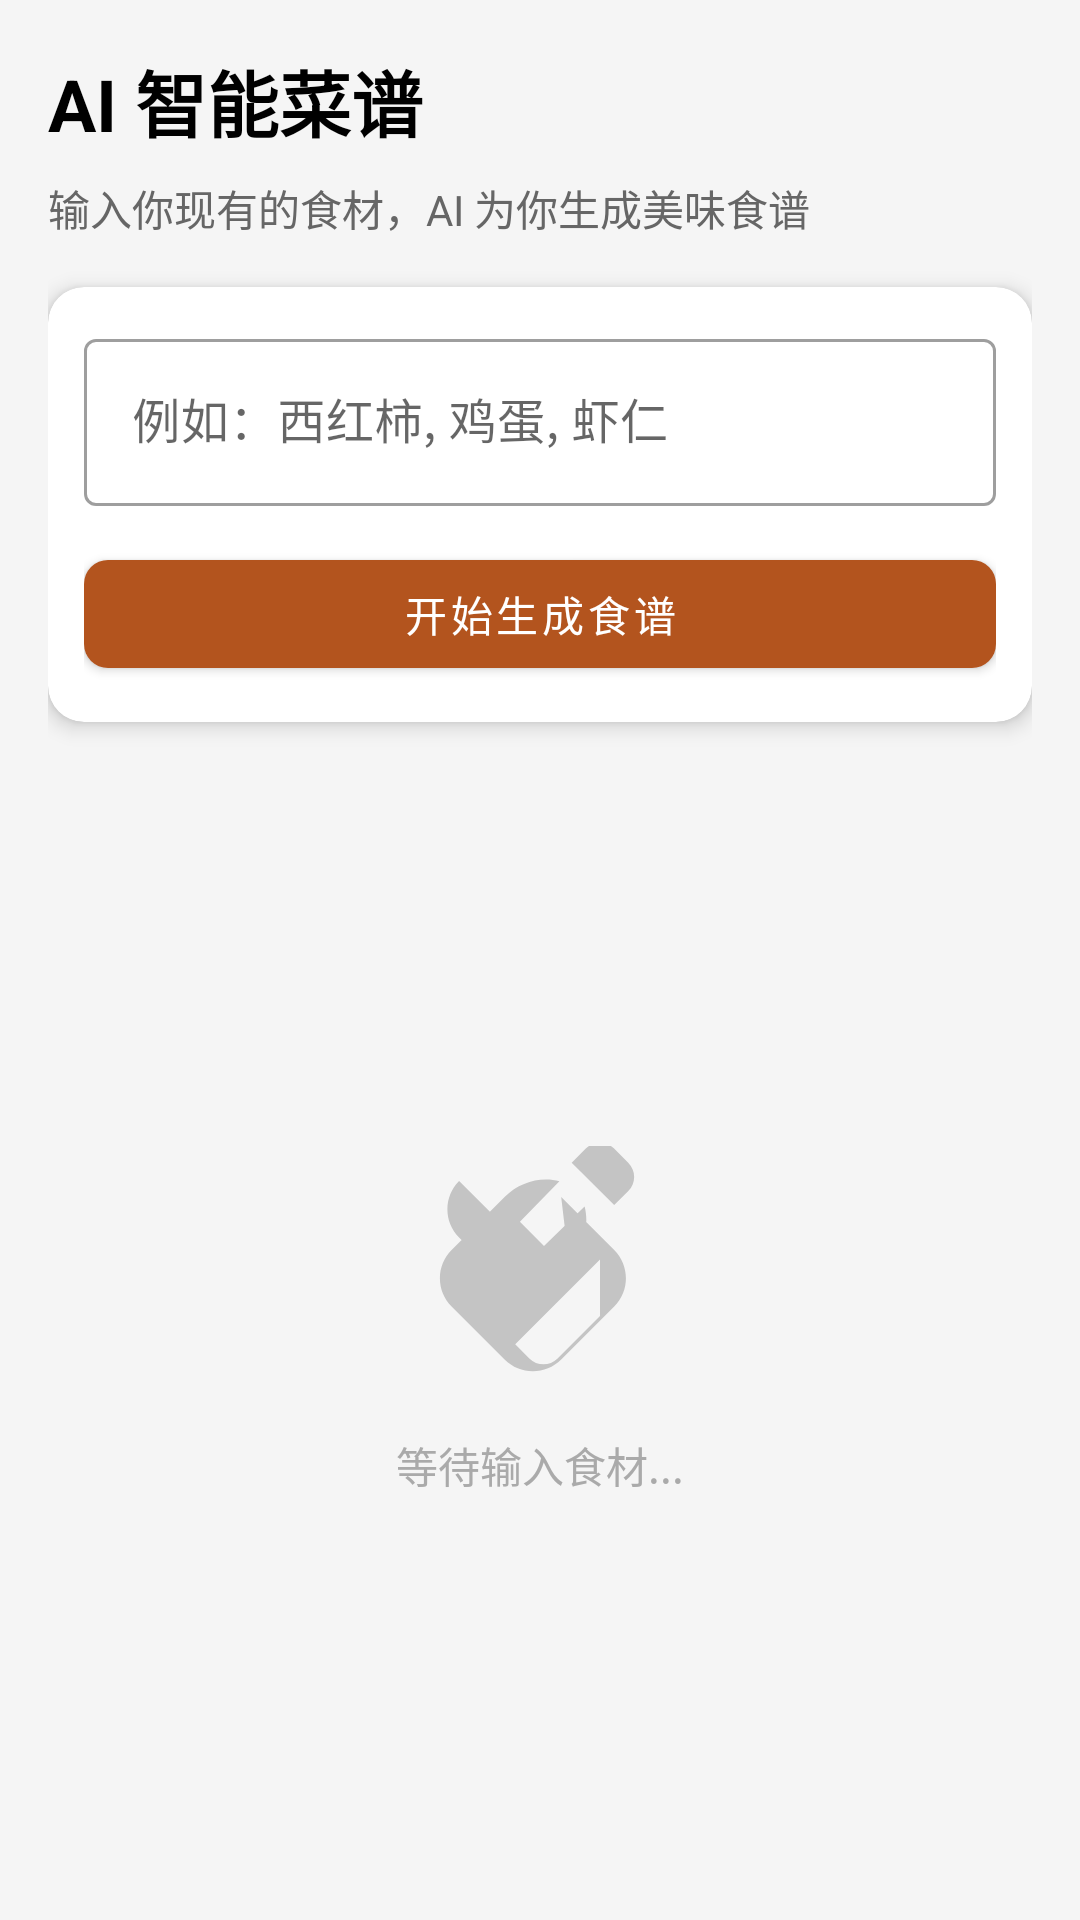

Screen size 1080 × 1920. Icon name, then its box in pixels as (x1, y1, x2, y2):
recipes: (440, 1146, 634, 1371)
